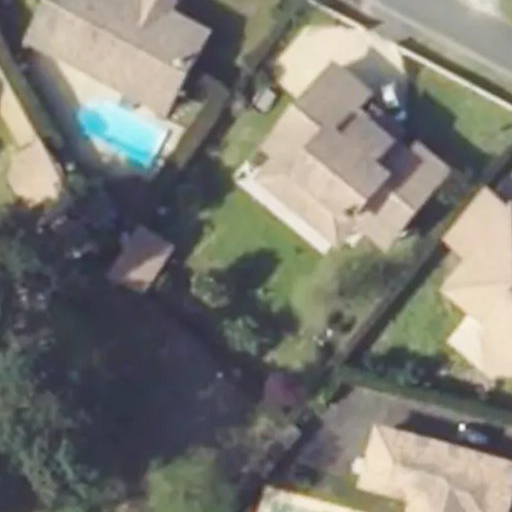pool: (195, 237, 317, 245)
